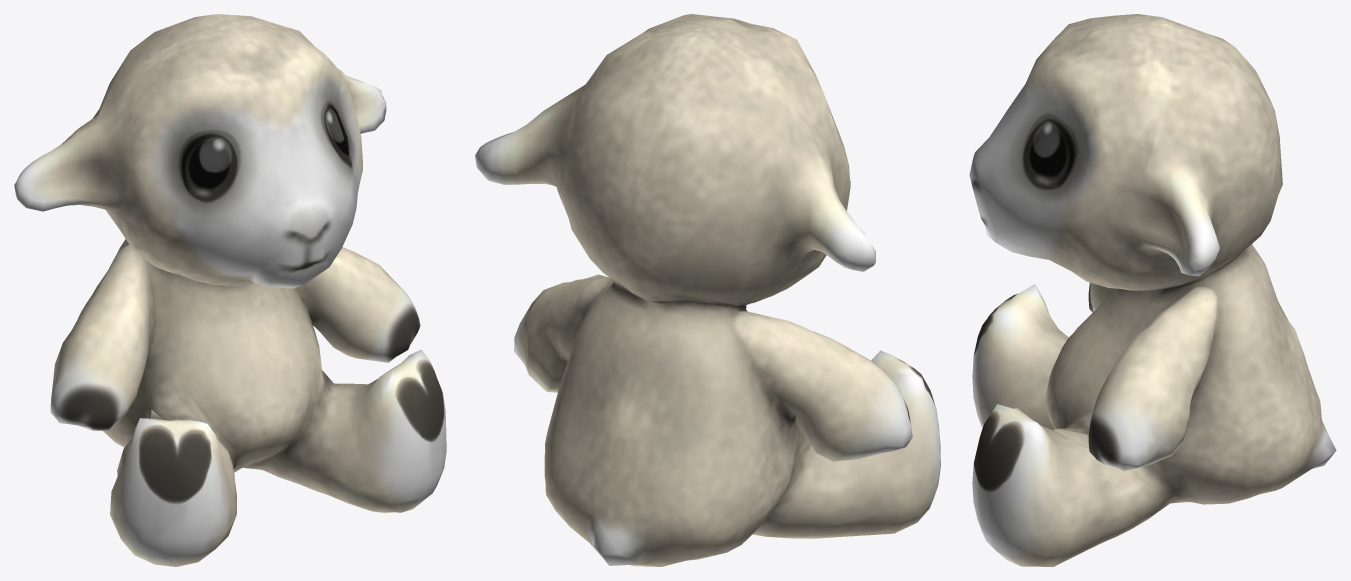
File: Sheep.glb
3 renders of one model, left to right at view 1: azimuth 30°, elevation 25°; view 2: azimuth 150°, elevation 25°; view 3: azimuth 270°, elevation 25°, orthographic. The views are drawn at different scales.
Visible parts, largest first — view 1: sheep; view 2: sheep; view 3: sheep.
Part boxes in pixels (x1=…): sheep: x1=14, y1=14, x2=446, y2=566; sheep: x1=475, y1=14, x2=940, y2=566; sheep: x1=969, y1=14, x2=1336, y2=566.
Size of the model in its own units: 1.57 by 1.93 by 1.32.
Materials: 1 (1 with a texture image).
